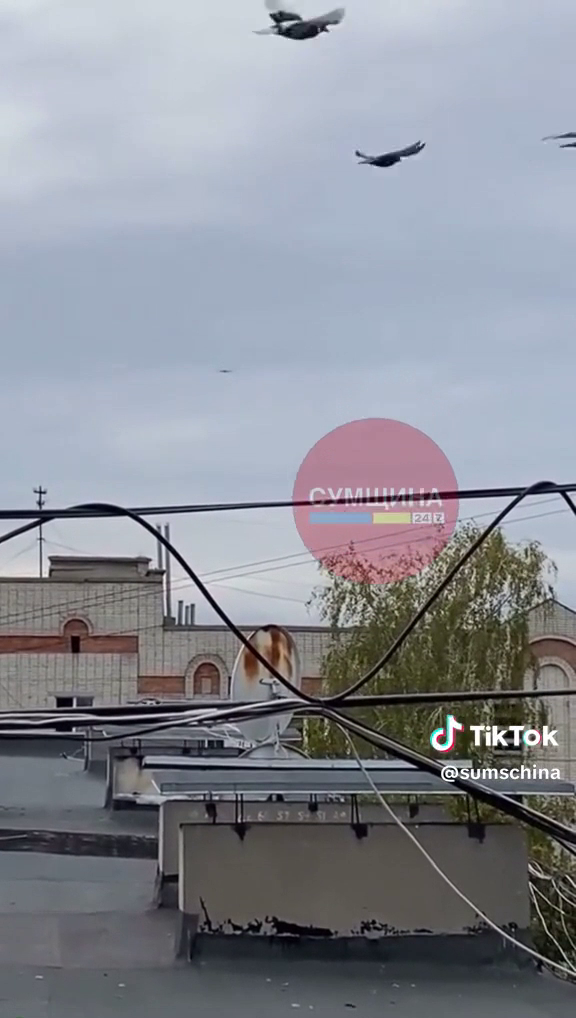not_drone: (247, 0, 376, 66), (338, 128, 446, 184)
